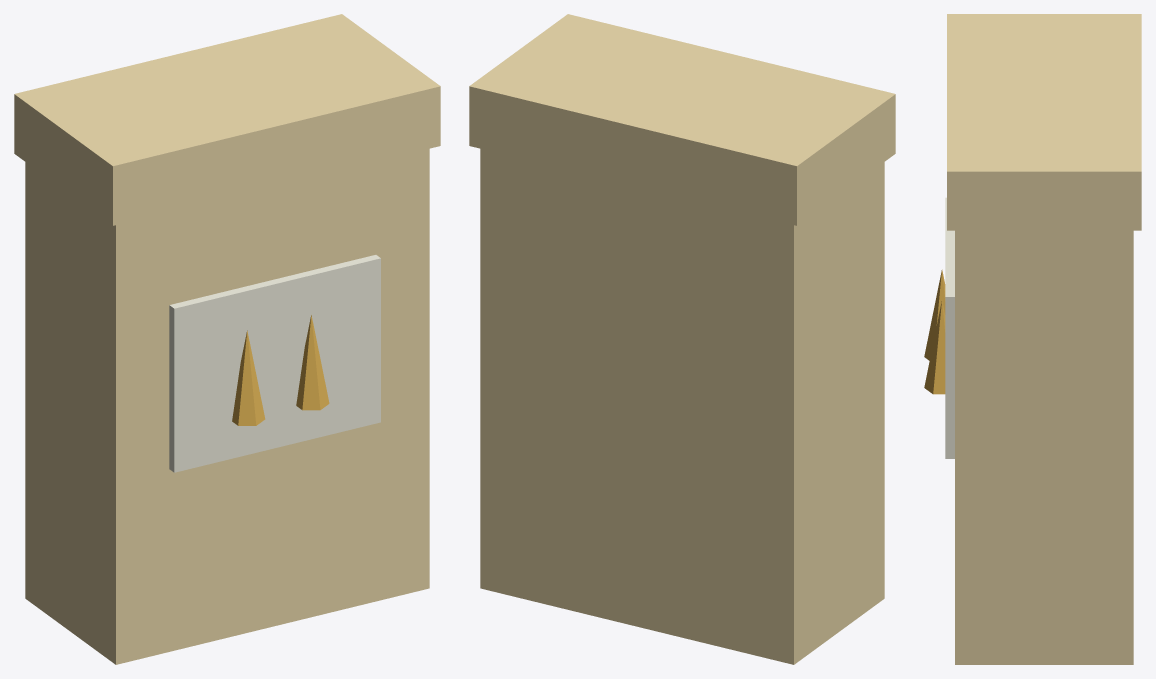
The model's file is WheatFlour.glb.
The picture shows the model from 3 angles, left to right: view 1: azimuth 30°, elevation 25°; view 2: azimuth 150°, elevation 25°; view 3: azimuth 270°, elevation 25°; orthographic projection.
Parts seen in each view (by area): view 1: Flour_Bag, Flour_Label, Flour_WheatIcon; view 2: Flour_Bag; view 3: Flour_Bag, Flour_Label, Flour_WheatIcon.
Boxes of the visible parts, x1,y1,x2,y2 form: Flour_Bag: (14,14,440,664); Flour_Label: (169,255,380,472); Flour_WheatIcon: (232,315,329,425); Flour_Bag: (469,14,895,664); Flour_Bag: (947,14,1141,664); Flour_Label: (945,197,954,458); Flour_WheatIcon: (924,269,945,394).
Bounding box in the file's own units: 0.46 × 0.675 × 0.268.
